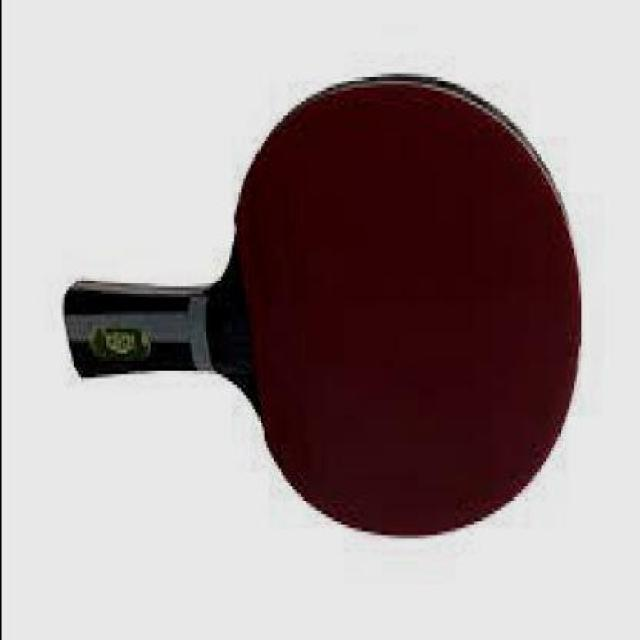table_tennis_racket: (236, 63, 587, 546)
